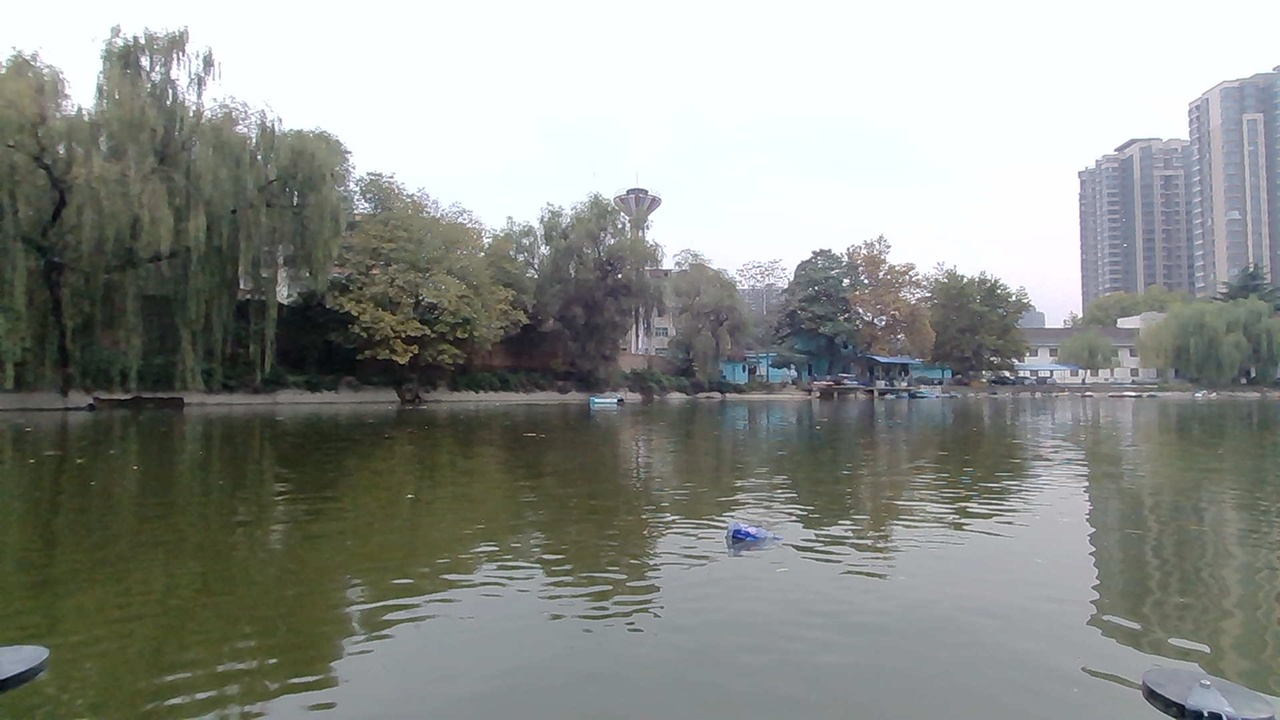bottle: (727, 522, 772, 556)
